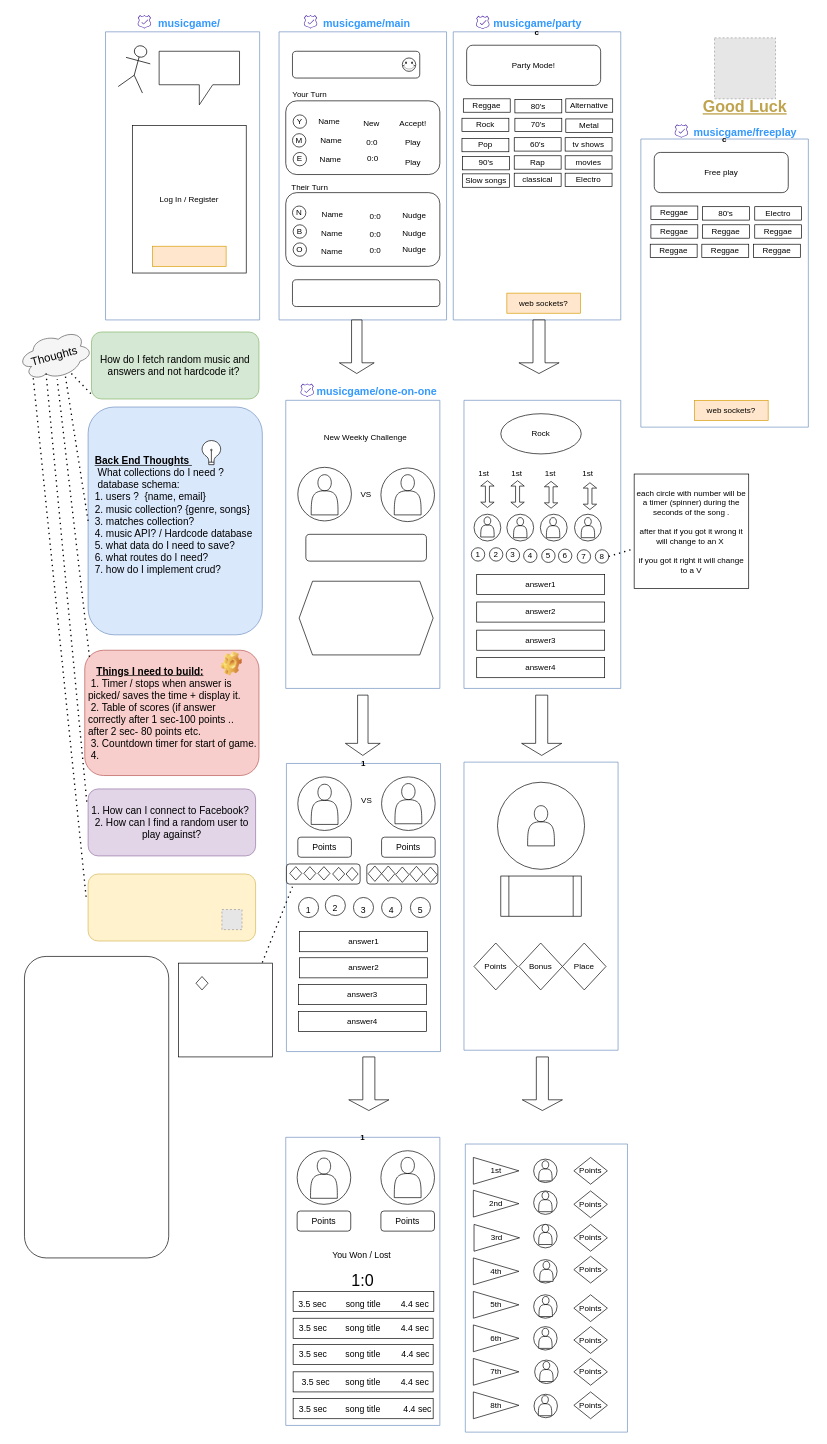
Some shapes in this 827 by 1444 pixel diagram are drawn without their labels. Grey dashed boxes stand in for pictures. The shapes that lost their labels are listed below. From the top down, each one's box as (x1, y1, x2, y2) in pixels, then its label:
(158, 51, 240, 105): Welcome to this Game
(292, 51, 420, 78): Connect with your friends
(152, 246, 226, 266): authentication?
(292, 279, 440, 307): Find Random Opponent / Email or username
(305, 534, 426, 561): Rock - Sent by Yael
(298, 581, 433, 655): Count down
(87, 873, 256, 941): How much time will everything take?
(500, 875, 581, 916): You Rocked it!
(178, 962, 272, 1057): right answer ? wrong answer? how many seconds / points
(24, 956, 169, 1258): Things I need to store: 1. rounds of game whos turn ? is game completed?
